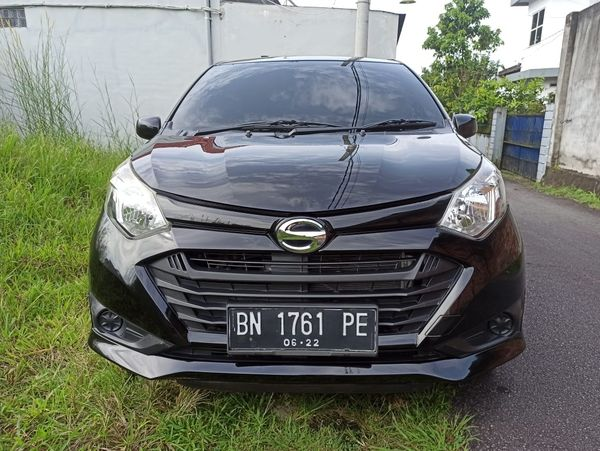plate: (224, 301, 380, 357)
